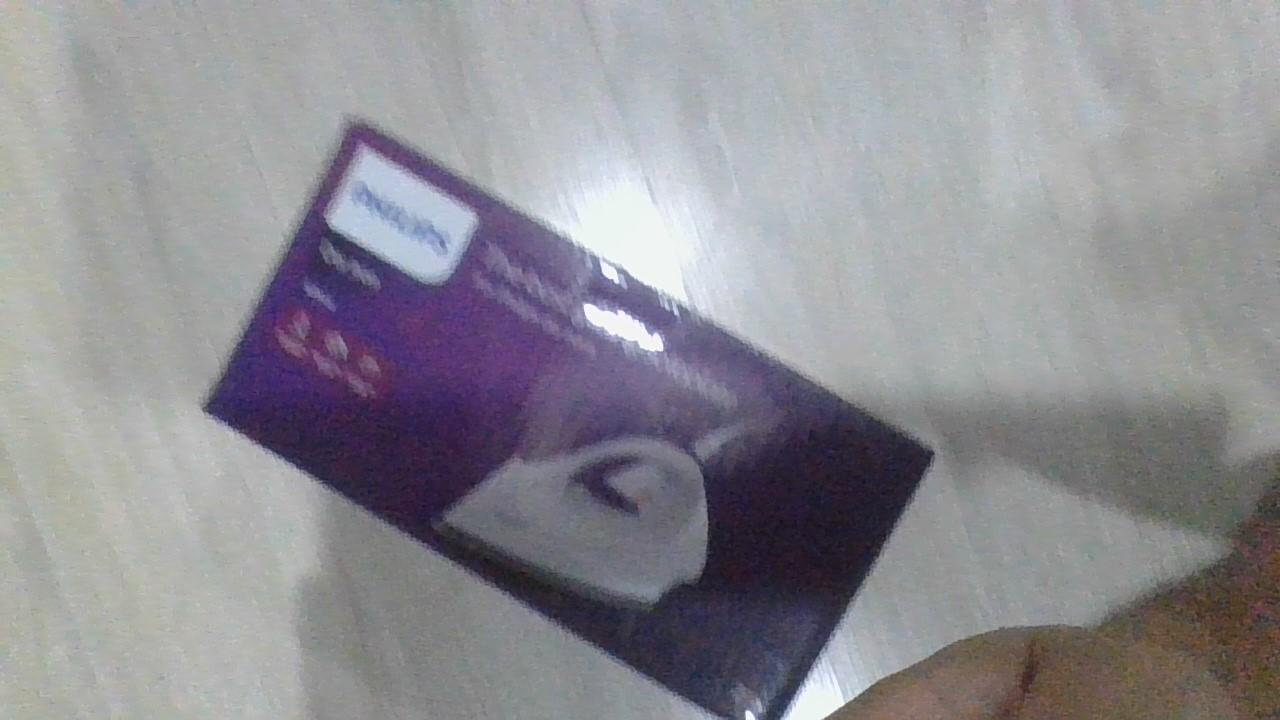IRON: (198, 116, 938, 715)
